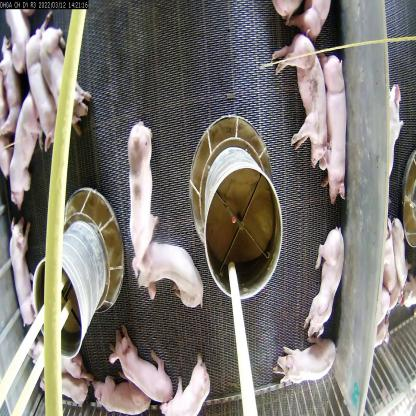Pig: (267, 32, 325, 170), (301, 220, 346, 348), (133, 238, 208, 311), (122, 125, 162, 257), (316, 51, 350, 204), (112, 325, 170, 404), (6, 223, 44, 338), (7, 85, 37, 217), (41, 27, 81, 124), (26, 42, 58, 160), (37, 343, 94, 404), (268, 342, 341, 389), (162, 362, 211, 415), (93, 373, 143, 415)
